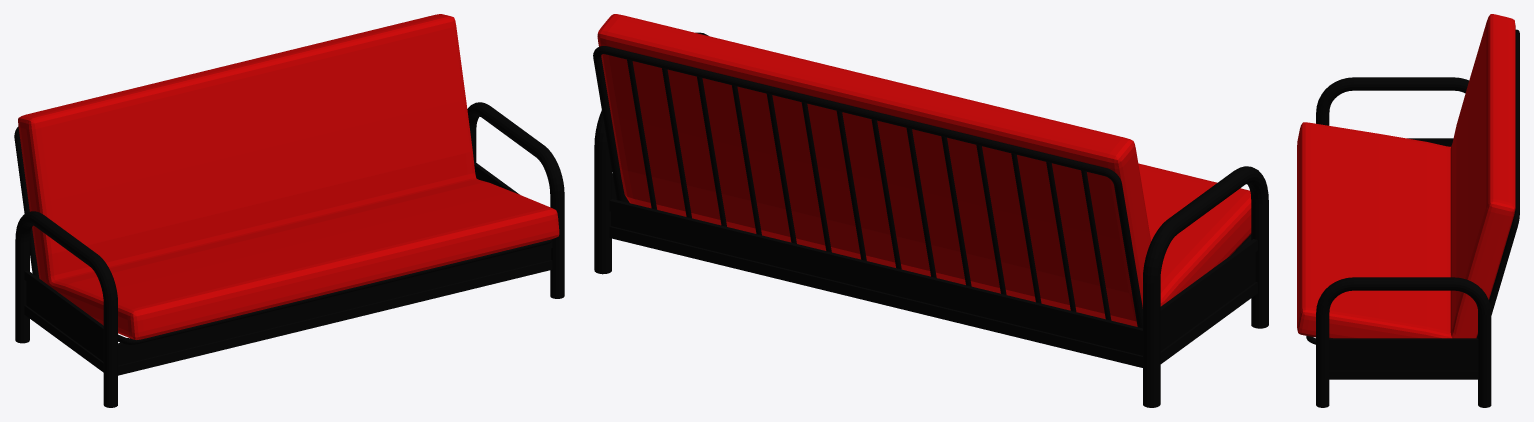
Rendered from futon-couch.obj.
The picture shows the model from 3 angles, left to right: view 1: azimuth 30°, elevation 25°; view 2: azimuth 150°, elevation 25°; view 3: azimuth 270°, elevation 25°; orthographic projection. The views are drawn at different scales.
Visible parts, largest first — view 1: Futon_matress_Futon_mattress, Futon_frame, Futon_frame_bottom, Futon_frame_back; view 2: Futon_matress_Futon_mattress, Futon_frame, Futon_frame_back; view 3: Futon_matress_Futon_mattress, Futon_frame, Futon_frame_back.
Part boxes in pixels (x1,y1,x2,y2): Futon_matress_Futon_mattress: (18, 14, 559, 339); Futon_frame: (15, 102, 564, 407); Futon_frame_bottom: (118, 239, 552, 344); Futon_frame_back: (14, 126, 39, 277); Futon_matress_Futon_mattress: (597, 14, 1251, 326); Futon_frame: (594, 32, 1268, 407); Futon_frame_back: (593, 46, 1142, 328); Futon_matress_Futon_mattress: (1297, 14, 1515, 338); Futon_frame: (1316, 77, 1491, 407); Futon_frame_back: (1476, 29, 1519, 338).
Size of the model in its own units: 13.3 by 5.96 by 6.09.
